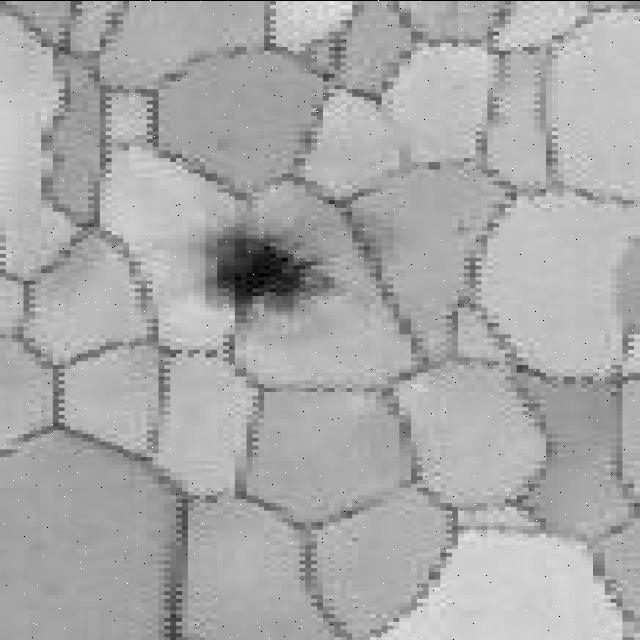good_void: (197, 228, 346, 319)
